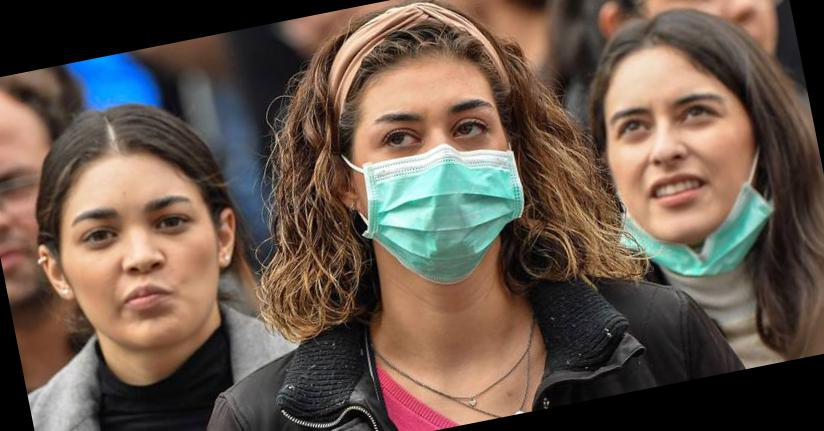mask_weared_incorrect: (599, 77, 779, 289)
with_mask: (359, 86, 534, 287)
without_mask: (63, 180, 232, 359), (1, 152, 47, 311)
